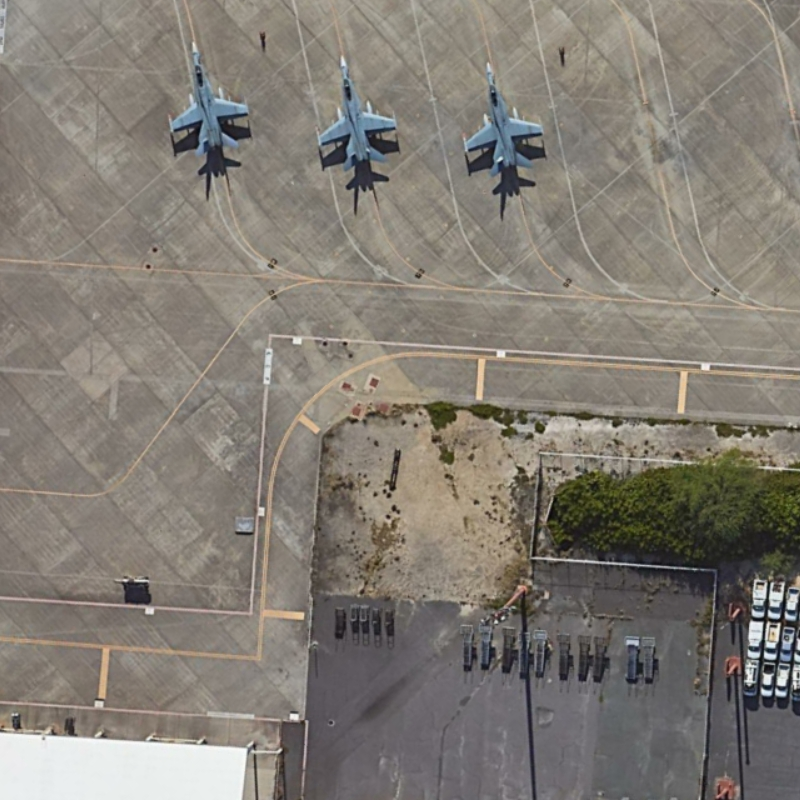A16: (306, 49, 406, 179), (456, 54, 553, 186), (162, 32, 261, 161)
